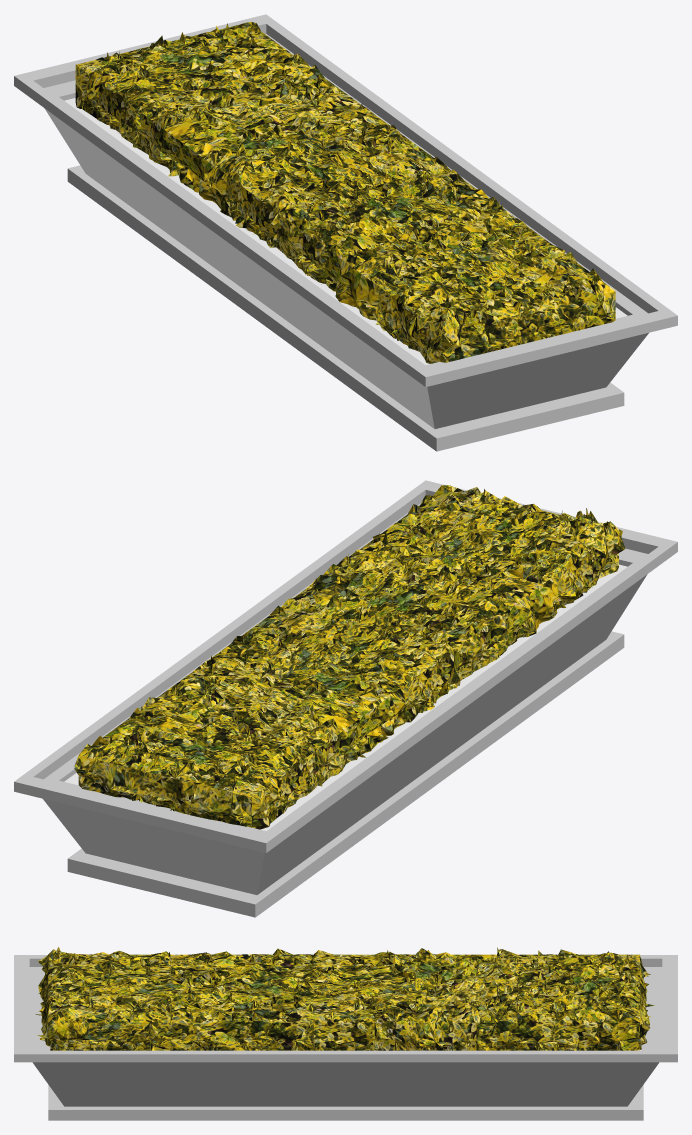
3 views of the same model, one above another, from view 1: azimuth 30°, elevation 25°; view 2: azimuth 150°, elevation 25°; view 3: azimuth 270°, elevation 25° (orthographic). The views are drawn at different scales.
Parts seen in each view (by area): view 1: зелень пример, group_0.002, group_0.003, group_0.001, group_0; view 2: зелень пример, group_0.002, group_0.003, group_0.001, group_0; view 3: зелень пример, group_0.002, group_0.003, group_0.001.
Boxes of the visible parts, x1=… form: зелень пример: x1=75, y1=22, x2=615, y2=363; group_0.002: x1=34, y1=24, x2=658, y2=428; group_0.003: x1=14, y1=14, x2=677, y2=386; group_0.001: x1=67, y1=165, x2=624, y2=451; group_0: x1=64, y1=98, x2=627, y2=364; зелень пример: x1=74, y1=485, x2=625, y2=829; group_0.002: x1=33, y1=490, x2=657, y2=894; group_0.003: x1=14, y1=480, x2=677, y2=852; group_0.001: x1=67, y1=631, x2=624, y2=917; group_0: x1=64, y1=564, x2=627, y2=830; зелень пример: x1=35, y1=947, x2=654, y2=1050; group_0.002: x1=29, y1=958, x2=662, y2=1106; group_0.003: x1=14, y1=955, x2=677, y2=1062; group_0.001: x1=48, y1=1085, x2=643, y2=1120.
Size of the model in its own units: 0.4368 by 1.23 by 0.2221.
2 materials, 1 textured.
